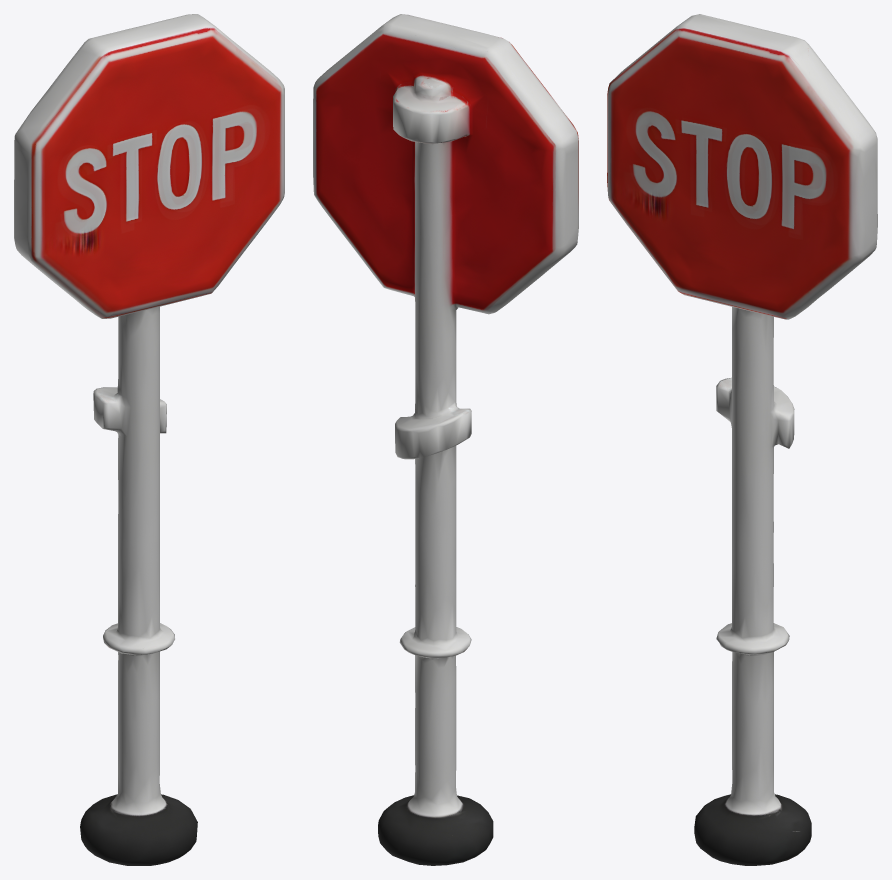
File: Meshy_AI_Stop_and_Reflect_0114170359_texture.fbx
3 renders of one model, left to right at view 1: azimuth 30°, elevation 25°; view 2: azimuth 150°, elevation 25°; view 3: azimuth 330°, elevation 25°, orthographic.
Visible parts, largest first — view 1: Mesh_0; view 2: Mesh_0; view 3: Mesh_0.
Part boxes in pixels (x1,y1,x2,y2): Mesh_0: [14, 14, 284, 865]; Mesh_0: [313, 14, 578, 865]; Mesh_0: [607, 14, 877, 865].
Bounding box in the file's own units: 62.24 × 191 × 24.86.
1 material, 1 textured.
